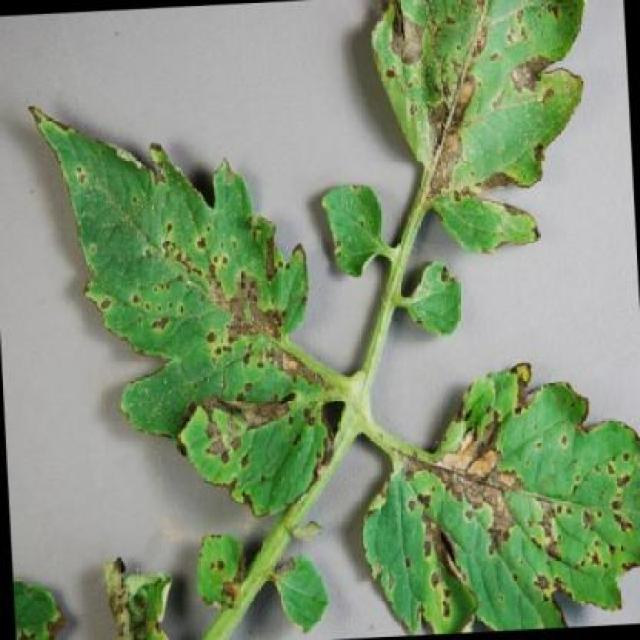Septoria leaf spot: (34, 103, 317, 457), (350, 354, 640, 640), (361, 1, 610, 324), (167, 370, 343, 524), (300, 165, 397, 280)
